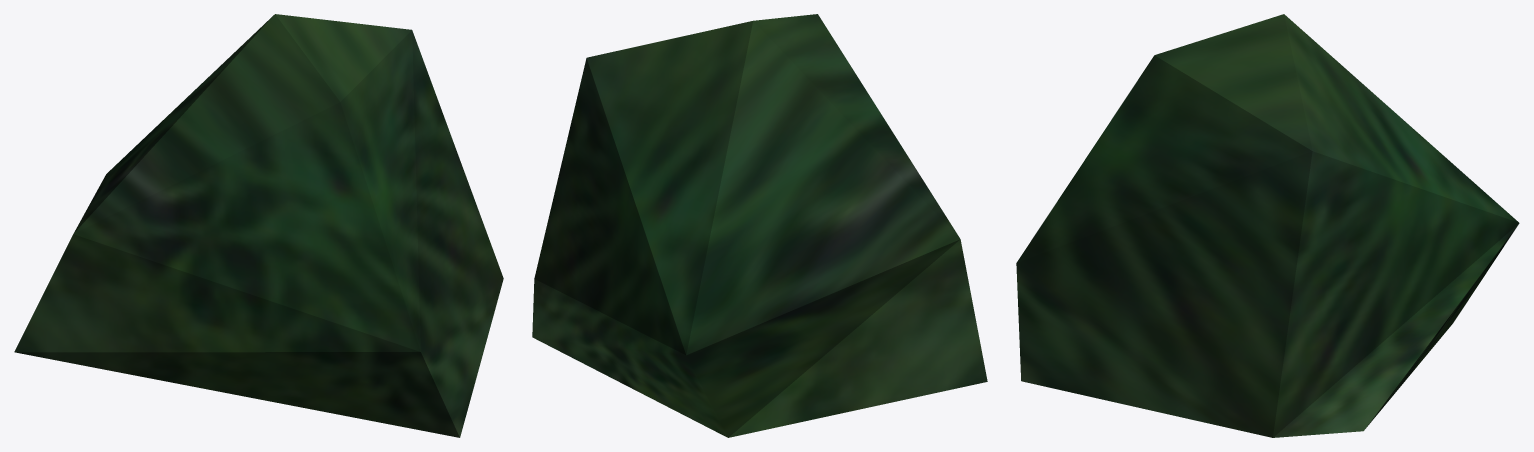
Rendered from TheOctagon_Floor_2_Rock_1.gltf.
3 views of the same model, side by side, from view 1: azimuth 30°, elevation 25°; view 2: azimuth 150°, elevation 25°; view 3: azimuth 270°, elevation 25° (orthographic).
Parts seen in each view (by area): view 1: TheOctagon_Floor_2_Rock_1; view 2: TheOctagon_Floor_2_Rock_1; view 3: TheOctagon_Floor_2_Rock_1.
Part boxes in pixels (bbox=[...]): TheOctagon_Floor_2_Rock_1: bbox=[14, 14, 503, 437]; TheOctagon_Floor_2_Rock_1: bbox=[532, 14, 987, 437]; TheOctagon_Floor_2_Rock_1: bbox=[1016, 14, 1519, 437].
Size of the model in its own units: 10.32 by 7.15 by 9.56.
1 material, 1 textured.
